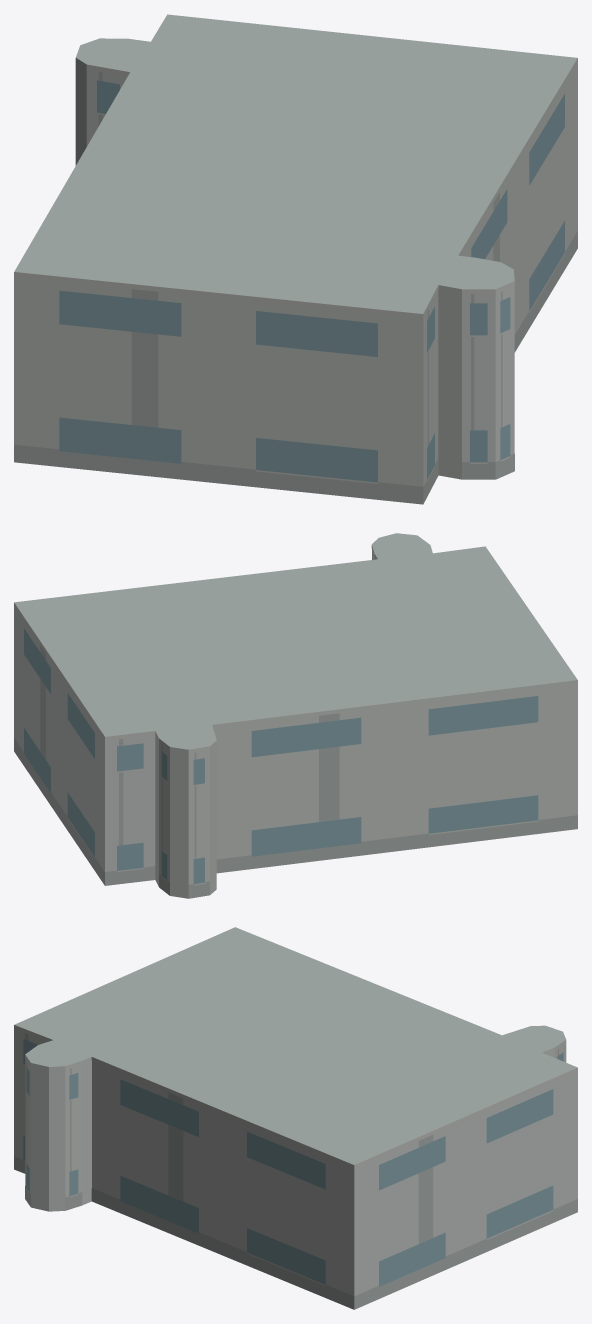
Rendered from survey-upis-32846261.glb.
The picture shows the model from 3 angles, top to bottom: view 1: azimuth 30°, elevation 25°; view 2: azimuth 150°, elevation 25°; view 3: azimuth 270°, elevation 25°; orthographic projection. The views are drawn at different scales.
Visible parts, largest first — view 1: survey-upis-32846261.tmp; view 2: survey-upis-32846261.tmp; view 3: survey-upis-32846261.tmp.
Part boxes in pixels (x1=…): survey-upis-32846261.tmp: x1=14, y1=14, x2=577, y2=504; survey-upis-32846261.tmp: x1=14, y1=533, x2=577, y2=898; survey-upis-32846261.tmp: x1=14, y1=927, x2=577, y2=1309.
Bounding box in the file's own units: 32.3 × 9.15 × 32.33.
